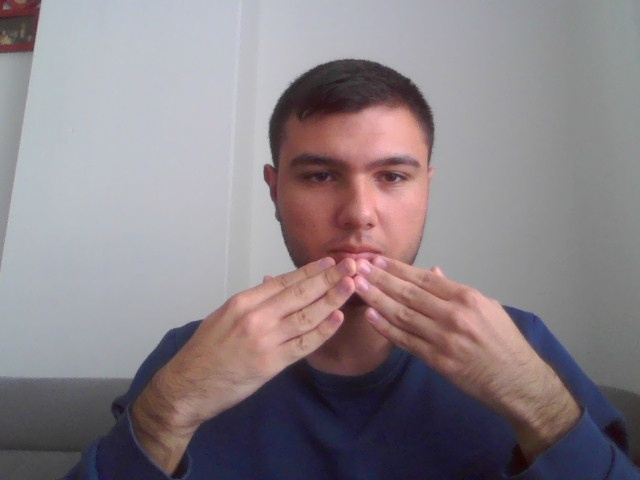thanks: (149, 254, 594, 433)
